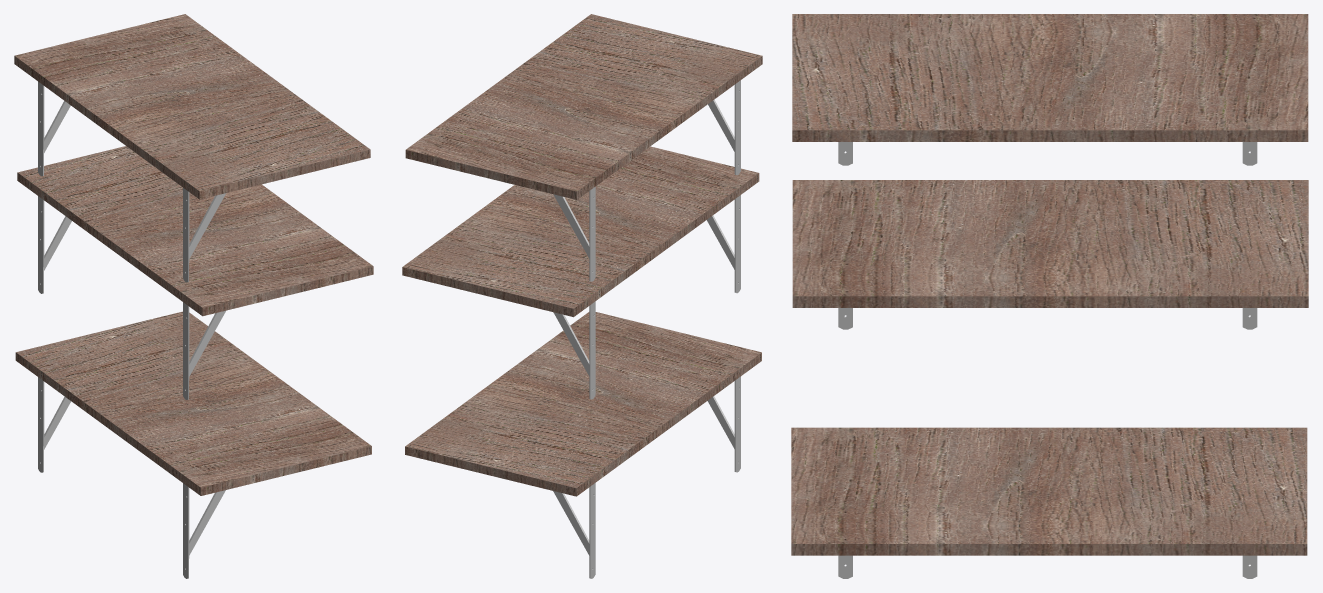
The model's file is 3 shelves.fbx.
The picture shows the model from 3 angles, left to right: view 1: azimuth 30°, elevation 25°; view 2: azimuth 150°, elevation 25°; view 3: azimuth 270°, elevation 25°; orthographic projection. The views are drawn at different scales.
Visible parts, largest first — view 1: 3 shelves; view 2: 3 shelves; view 3: 3 shelves.
Boxes of the visible parts, x1,y1,x2,y2 form: 3 shelves: (14,14,373,578); 3 shelves: (402,14,762,578); 3 shelves: (791,14,1308,578).
Size of the model in its own units: 41.13 by 90.82 by 75.95.
